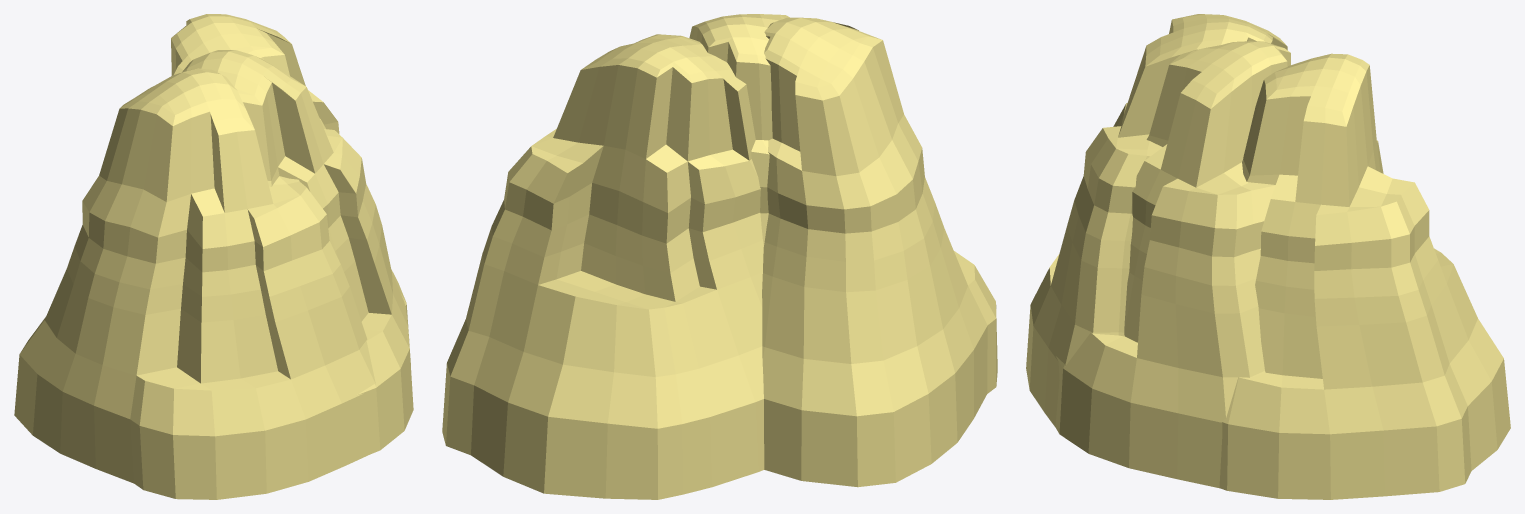
File: BigRock01.fbx
The picture shows the model from 3 angles, left to right: view 1: azimuth 30°, elevation 25°; view 2: azimuth 150°, elevation 25°; view 3: azimuth 270°, elevation 25°; orthographic projection. The views are drawn at different scales.
Visible parts, largest first — view 1: Plane.048; view 2: Plane.048; view 3: Plane.048.
Part boxes in pixels (<box>): Plane.048: <box>14,14,413,499</box>; Plane.048: <box>442,14,997,499</box>; Plane.048: <box>1026,14,1510,499</box>.
Bounding box in the file's own units: 4109 × 3594 × 4414.
